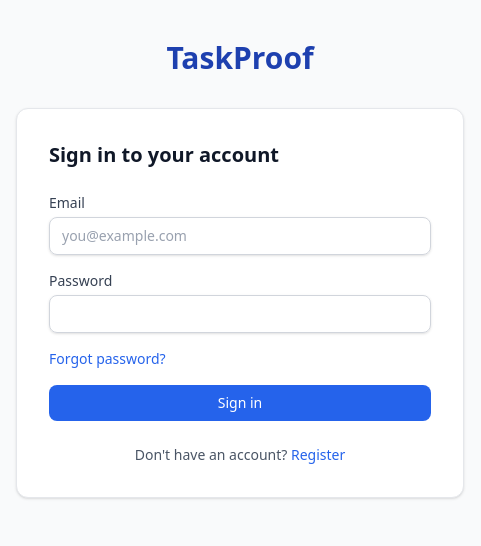
Test case: LoginPage › displays error message on failed login
This screenshot has width=481, height=546.
In the field labelled "Email": (240, 236) [49,217,431,255], type "test@example.com"
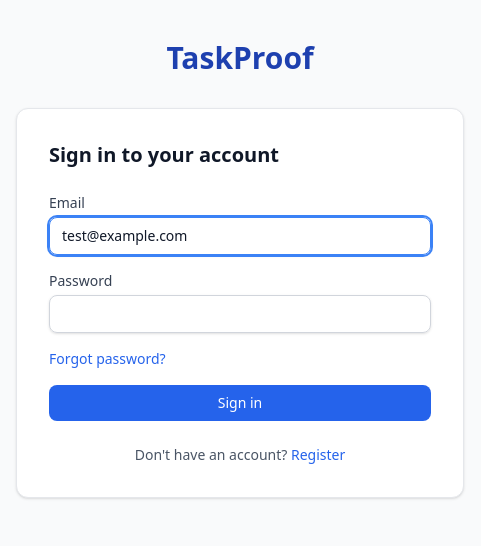
In the password field labelled "Password": (240, 314) [49,295,431,333], type "wrong"
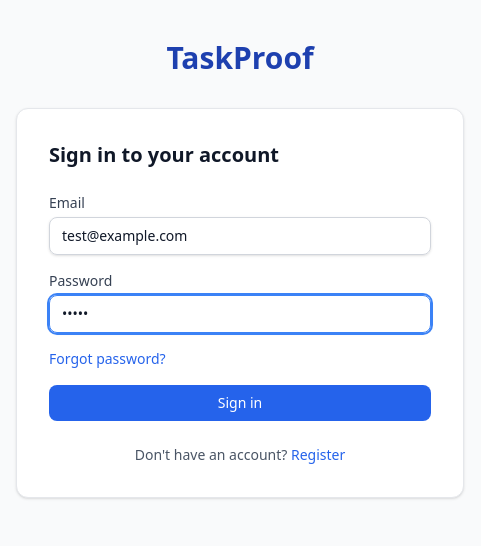
Click the button "Sign in": (240, 403) [49,385,431,421]
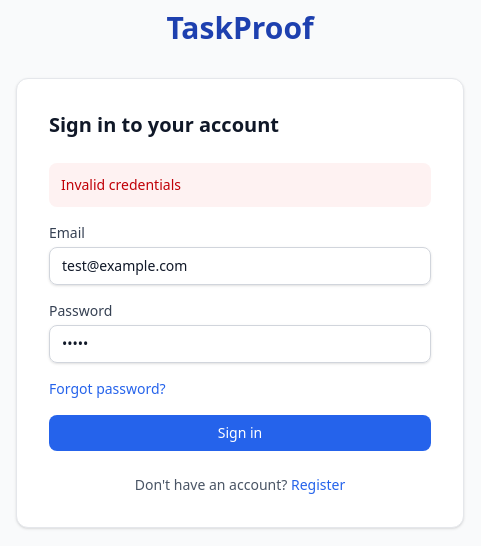
Expected: the text "Invalid credentials" is shown, [49,163,431,207]
